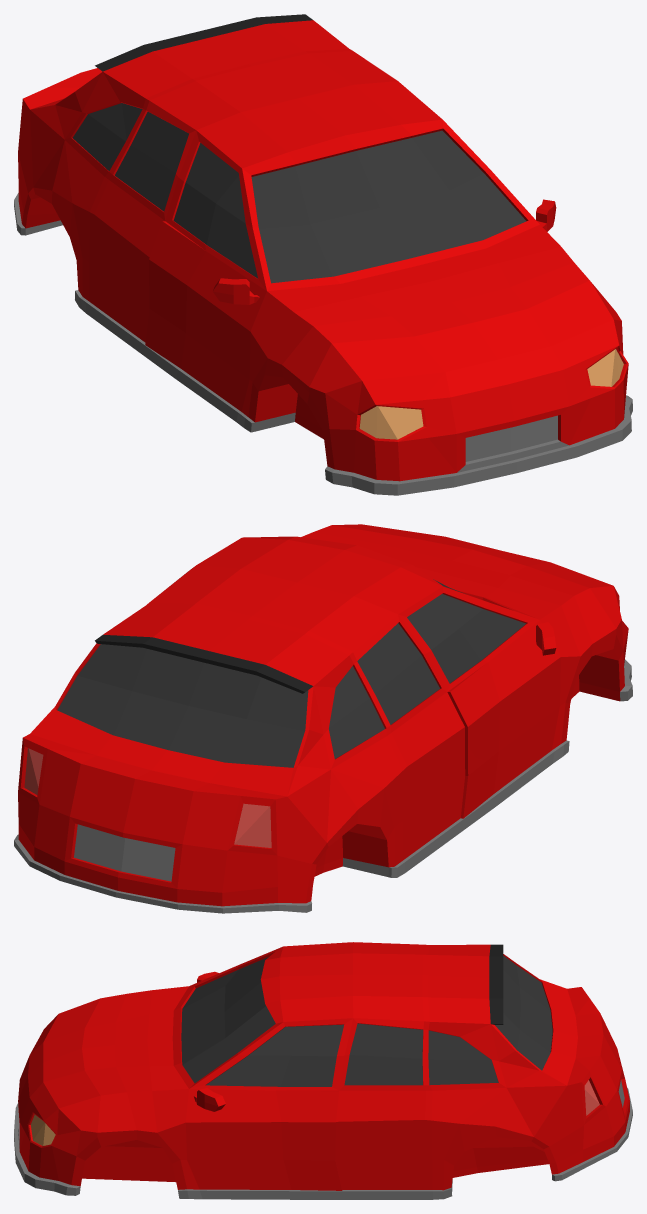
Rendered from car_body.glb.
The picture shows the model from 3 angles, top to bottom: view 1: azimuth 30°, elevation 25°; view 2: azimuth 150°, elevation 25°; view 3: azimuth 270°, elevation 25°; orthographic projection. The views are drawn at different scales.
Visible parts, largest first — view 1: NormalCar2; view 2: NormalCar2; view 3: NormalCar2.
Part boxes in pixels (<box>): NormalCar2: <box>14,14,632,495</box>; NormalCar2: <box>14,524,632,913</box>; NormalCar2: <box>14,942,632,1199</box>.
Size of the model in its own units: 3.04 by 1.81 by 6.14.
